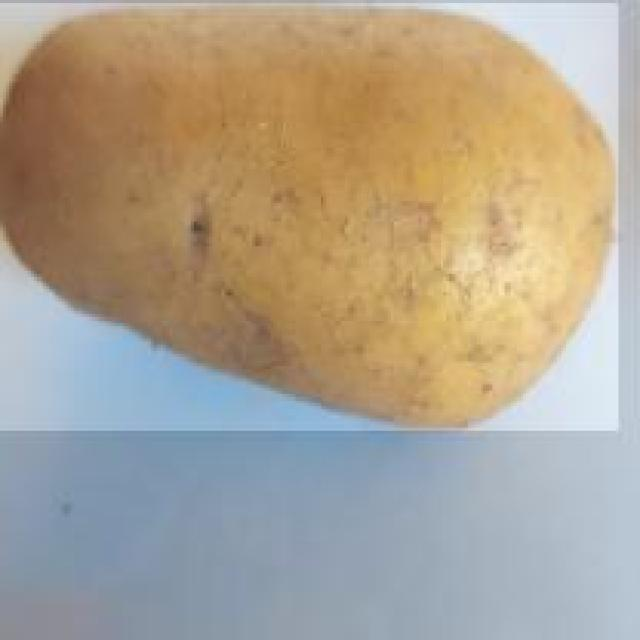potato: (0, 3, 618, 434)
